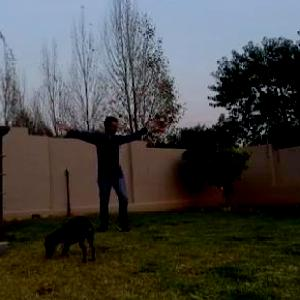takeoff: (42, 113, 157, 243)
